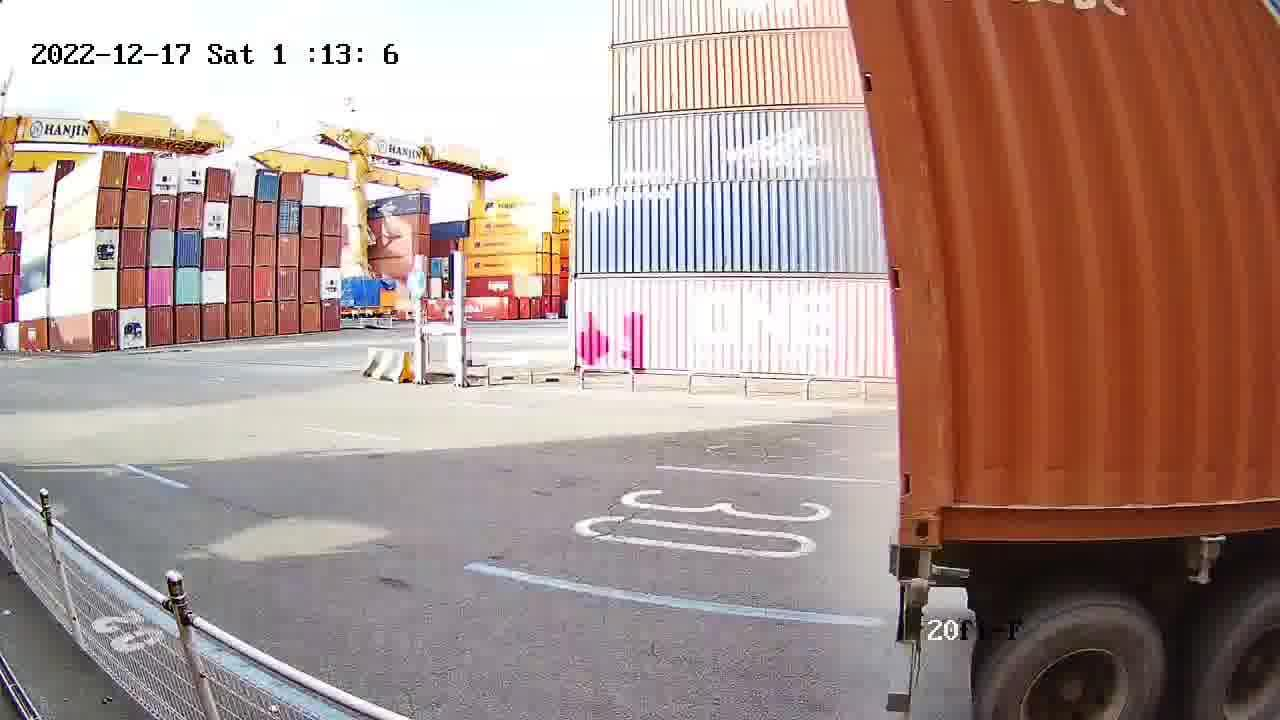Cone: (894, 549, 940, 587)
Hole_L: (898, 486, 966, 542)
Tire: (987, 607, 1167, 714)
